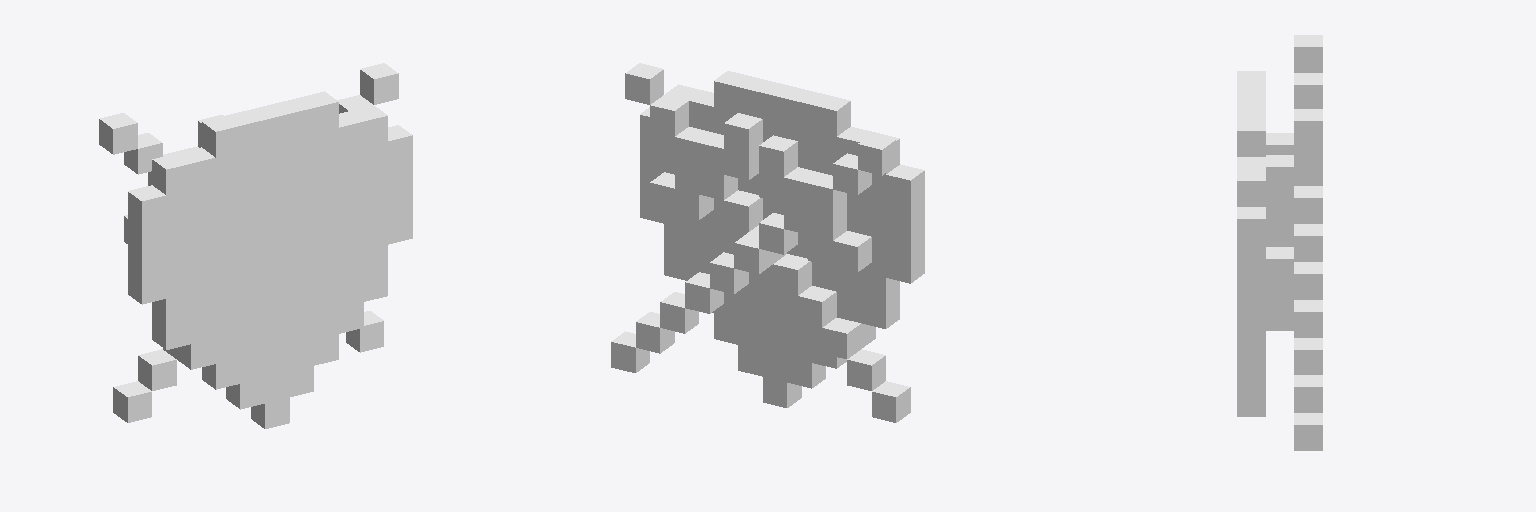
Rendered from house_swords.obj.
3 renders of one model, left to right at view 1: azimuth 30°, elevation 25°; view 2: azimuth 150°, elevation 25°; view 3: azimuth 270°, elevation 25°, orthographic.
Visible parts, largest first — view 1: house_swords; view 2: house_swords; view 3: house_swords.
Boxes of the visible parts, x1=… form: house_swords: x1=99, y1=63, x2=412, y2=428; house_swords: x1=611, y1=63, x2=924, y2=422; house_swords: x1=1237, y1=35, x2=1322, y2=450.
Bounding box in the file's own units: 11 × 12 × 3.